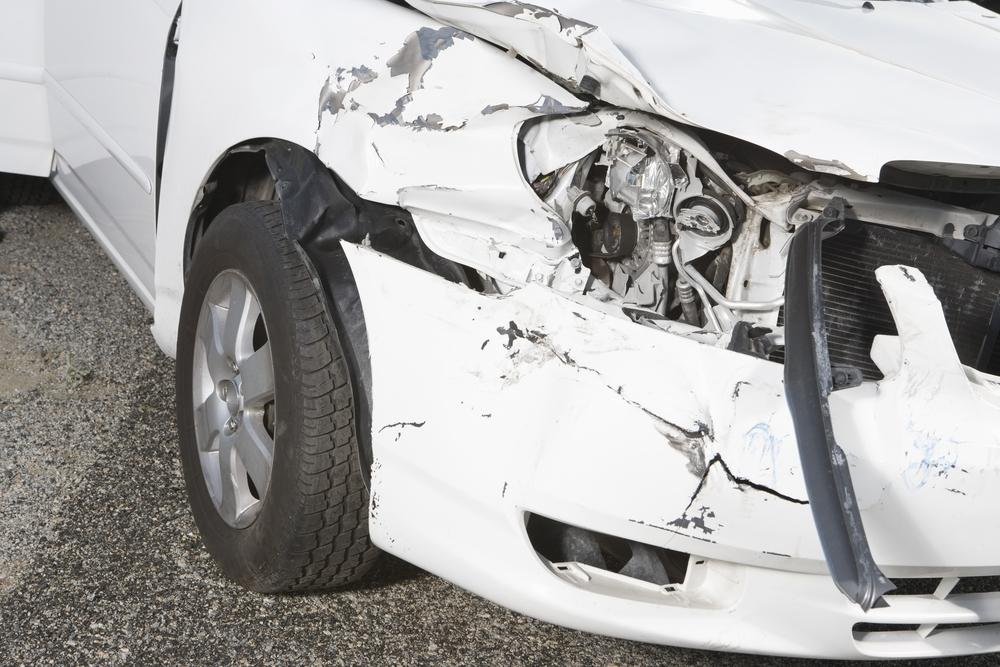crack: (680, 453, 810, 518)
dent: (321, 32, 587, 264), (407, 0, 663, 102)
lamp broken: (577, 119, 840, 355)
scratch: (476, 298, 712, 473)
